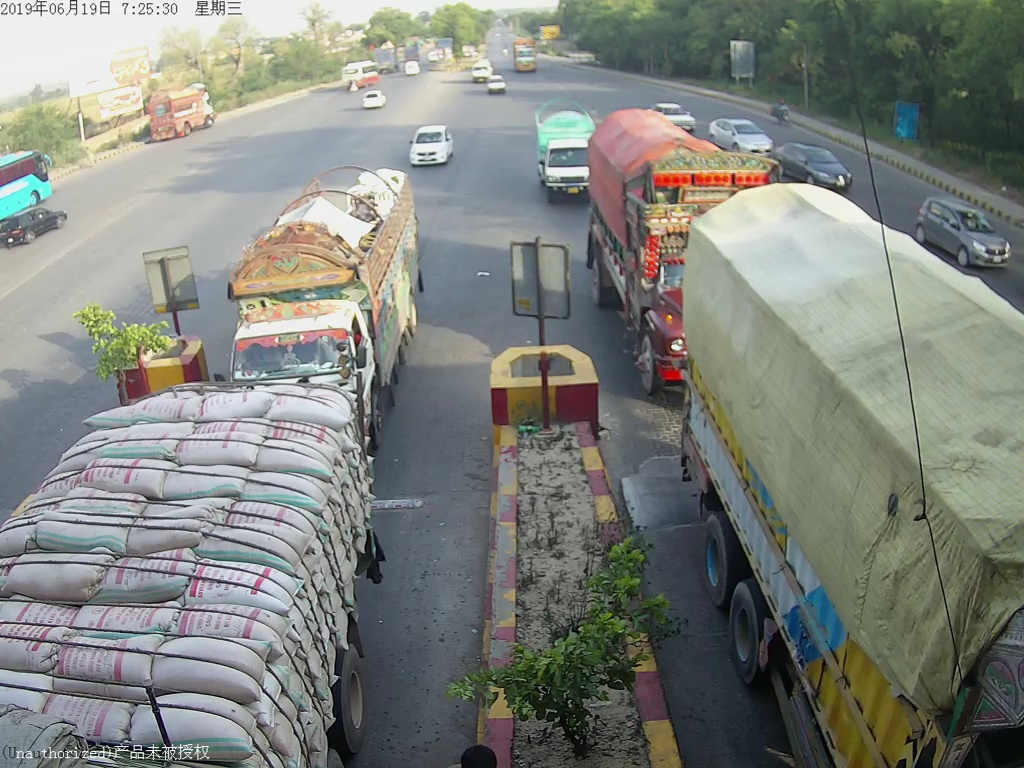Cat-4: (214, 198, 459, 379)
